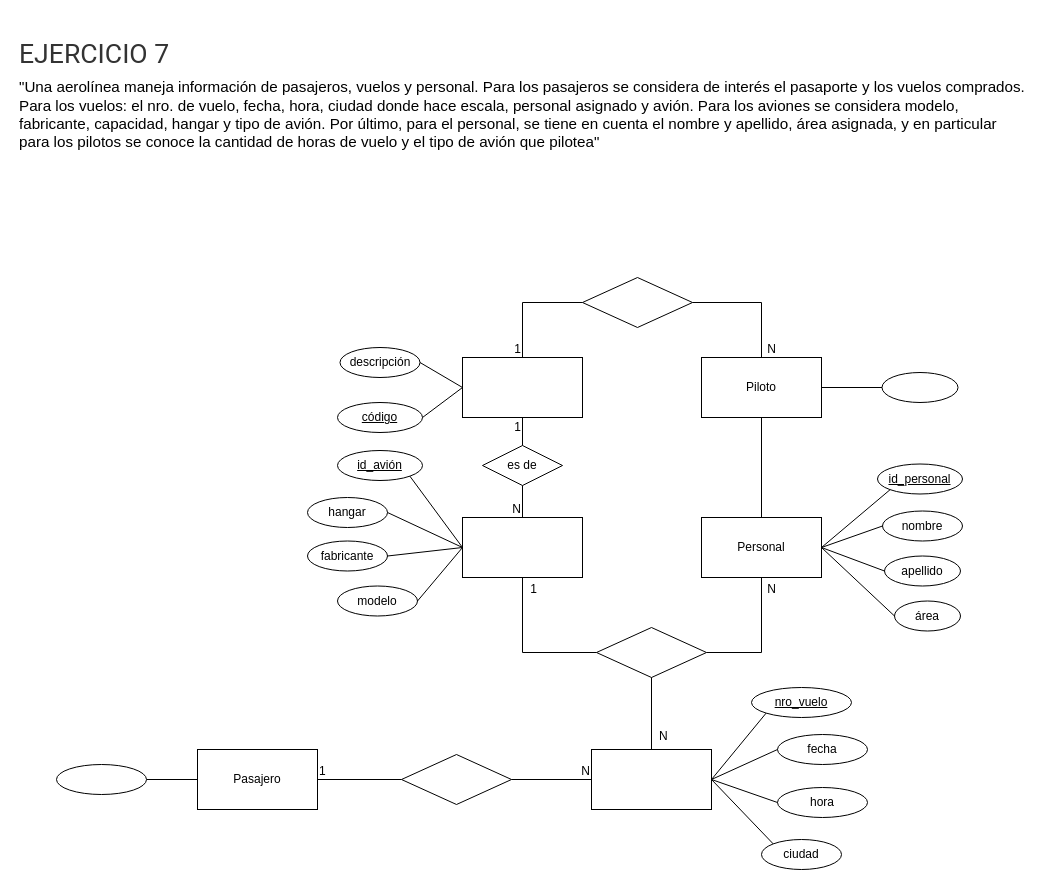
Some shapes in this 1044 by 887 pixel diagram are drawn without their labels. Each missing label, with the centre of its shape:
"Avión" goes at pixel 522 547.
"horas" goes at pixel 919 387.
"pasaporte" goes at pixel 101 779.
"pilota" goes at pixel 637 302.
"puede comprar" goes at pixel 456 779.
"tiene asignado" goes at pixel 651 652.
"Tipo" goes at pixel 522 387.
"Vuelo" goes at pixel 651 779.
